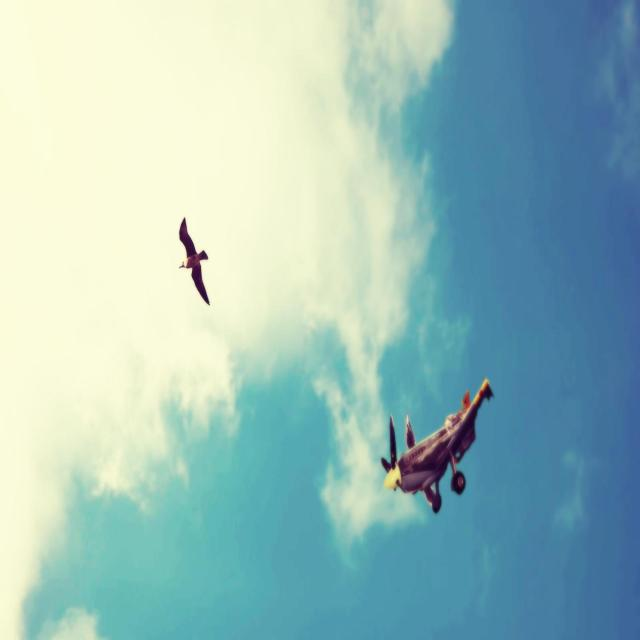airplane: (380, 376, 494, 513)
